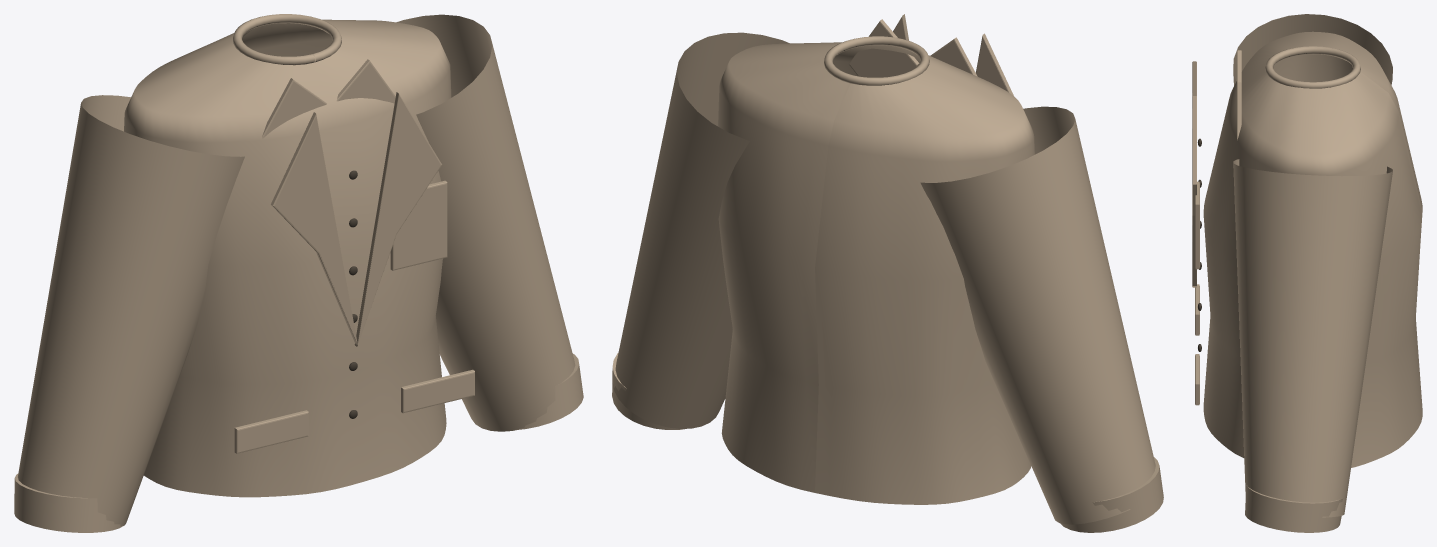
File: veste-atelier-femme.glb
3 renders of one model, left to right at view 1: azimuth 30°, elevation 25°; view 2: azimuth 150°, elevation 25°; view 3: azimuth 270°, elevation 25°, orthographic. The views are drawn at different scales.
Parts seen in each view (by area): view 1: edit-10, long-sleeve (×2); view 2: edit-10, long-sleeve (×2); view 3: edit-10, long-sleeve (×2).
Part boxes in pixels (bbox=[...]): edit-10: bbox=[14, 14, 583, 532]; long-sleeve (×2): bbox=[18, 14, 575, 526]; edit-10: bbox=[612, 14, 1163, 532]; long-sleeve (×2): bbox=[612, 32, 1155, 524]; edit-10: bbox=[1192, 31, 1422, 532]; long-sleeve (×2): bbox=[1233, 14, 1392, 517].
Size of the model in its own units: 0.7997 by 0.5891 by 0.3356.
